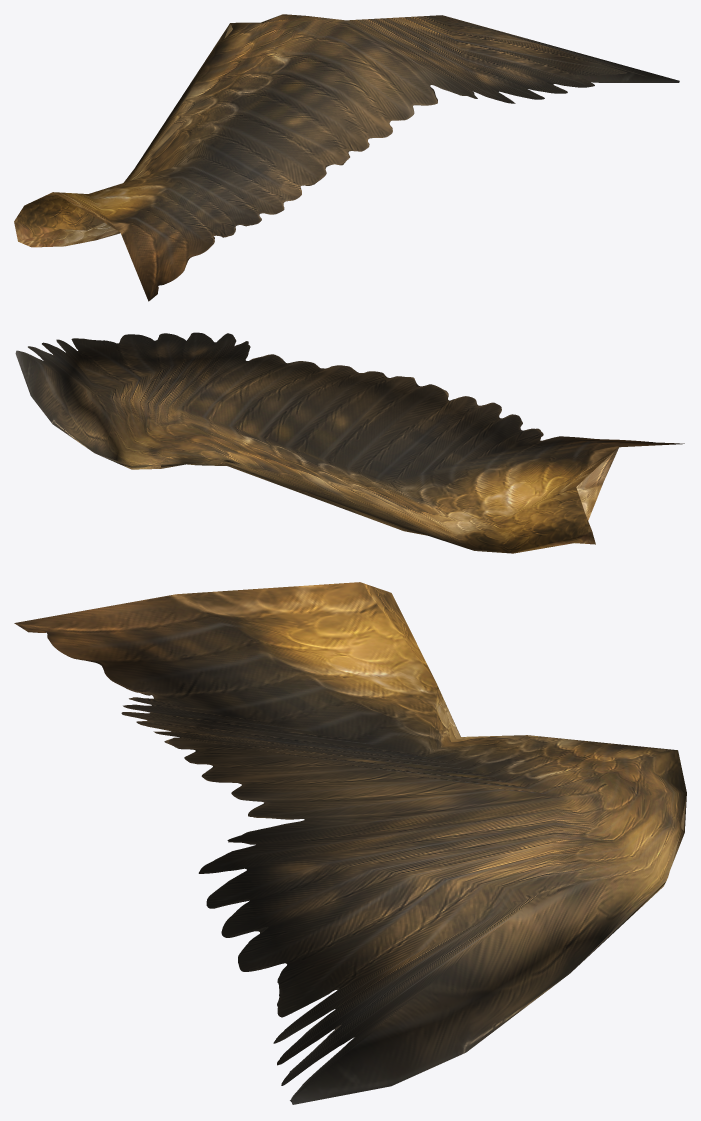
The model's file is es_aguila_ala_der.obj.
3 views of the same model, one above another, from view 1: azimuth 30°, elevation 25°; view 2: azimuth 150°, elevation 25°; view 3: azimuth 270°, elevation 25° (orthographic). The views are drawn at different scales.
Visible parts, largest first — view 1: EAGLE_ R Forearm_011_18, EAGLE_ R Hand_012_19, Eagle_WingRightFeathers2_013_20, EAGLE_ R UpperArm_010_17, Eagle_WingRightFeathers4_00_23, Eagle_WingRightFeathers3_015_22, Object_60.002_M_Eagle; view 2: EAGLE_ R Forearm_011_18, EAGLE_ R Hand_012_19, EAGLE_ R UpperArm_010_17, Eagle_WingRightFeathers3_015_22, Eagle_WingRightFeathers2_013_20, Eagle_WingRightFeathers4_00_23, Object_60.002_M_Eagle; view 3: EAGLE_ R Hand_012_19, Eagle_WingRightFeathers4_00_23, EAGLE_ R UpperArm_010_17, EAGLE_ R Forearm_011_18, Eagle_WingRightFeathers2_013_20, Eagle_WingRightFeathers3_015_22.
Part boxes in pixels (x1,y1,x2,y2): EAGLE_ R Forearm_011_18: (135,14,345,185); EAGLE_ R Hand_012_19: (261,14,679,103); Eagle_WingRightFeathers2_013_20: (334,20,466,165); EAGLE_ R UpperArm_010_17: (14,123,204,247); Eagle_WingRightFeathers4_00_23: (120,157,216,301); Eagle_WingRightFeathers3_015_22: (205,157,308,237); Object_60.002_M_Eagle: (32,223,108,247); EAGLE_ R Forearm_011_18: (163,380,448,530); EAGLE_ R Hand_012_19: (15,332,248,469); EAGLE_ R UpperArm_010_17: (364,447,618,553); Eagle_WingRightFeathers3_015_22: (392,395,543,481); Eagle_WingRightFeathers2_013_20: (179,344,414,407); Eagle_WingRightFeathers4_00_23: (394,436,684,481); Object_60.002_M_Eagle: (578,483,602,520); EAGLE_ R Hand_012_19: (198,763,686,1104); Eagle_WingRightFeathers4_00_23: (14,594,425,755); EAGLE_ R UpperArm_010_17: (177,582,526,755); EAGLE_ R Forearm_011_18: (153,731,686,825); Eagle_WingRightFeathers2_013_20: (164,738,558,834); Eagle_WingRightFeathers3_015_22: (121,697,424,755).
Size of the model in its own units: 102 by 16.7 by 56.95.
